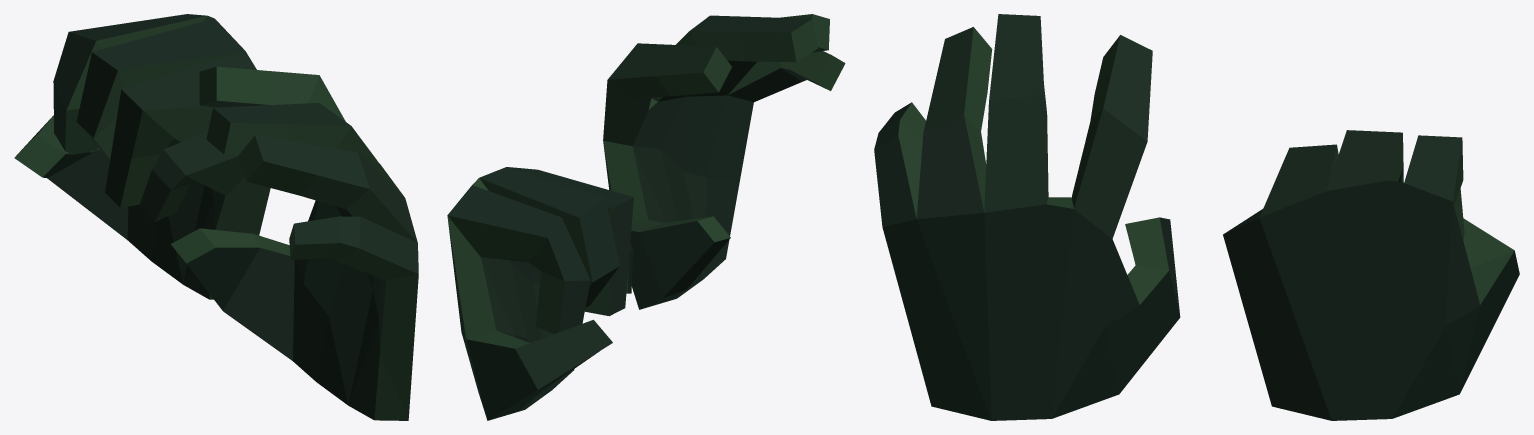
File: monsterHand.fbx
3 views of the same model, side by side, from view 1: azimuth 30°, elevation 25°; view 2: azimuth 150°, elevation 25°; view 3: azimuth 270°, elevation 25° (orthographic). The views are drawn at different scales.
Parts seen in each view (by area): view 1: Mesh_MonsterHand, Mesh_MonsterHandGrip; view 2: Mesh_MonsterHand, Mesh_MonsterHandGrip; view 3: Mesh_MonsterHand, Mesh_MonsterHandGrip.
Part boxes in pixels (bbox=[...]): Mesh_MonsterHand: bbox=[171, 66, 418, 420]; Mesh_MonsterHandGrip: bbox=[14, 14, 270, 299]; Mesh_MonsterHand: bbox=[603, 14, 845, 309]; Mesh_MonsterHandGrip: bbox=[447, 167, 633, 420]; Mesh_MonsterHand: bbox=[874, 14, 1180, 420]; Mesh_MonsterHandGrip: bbox=[1223, 130, 1519, 420].
Size of the model in its own units: 2.11 by 6.25 by 3.45.
